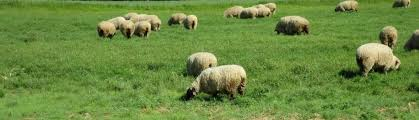sheep: (187, 64, 248, 100), (354, 41, 400, 79), (180, 52, 221, 75), (277, 15, 318, 37), (376, 24, 401, 51), (335, 1, 361, 15), (96, 20, 117, 37), (184, 11, 200, 33), (136, 21, 156, 37), (224, 4, 245, 19), (168, 9, 190, 23), (251, 4, 272, 18), (241, 5, 257, 23), (119, 23, 137, 39), (119, 12, 140, 25), (141, 12, 159, 23)
